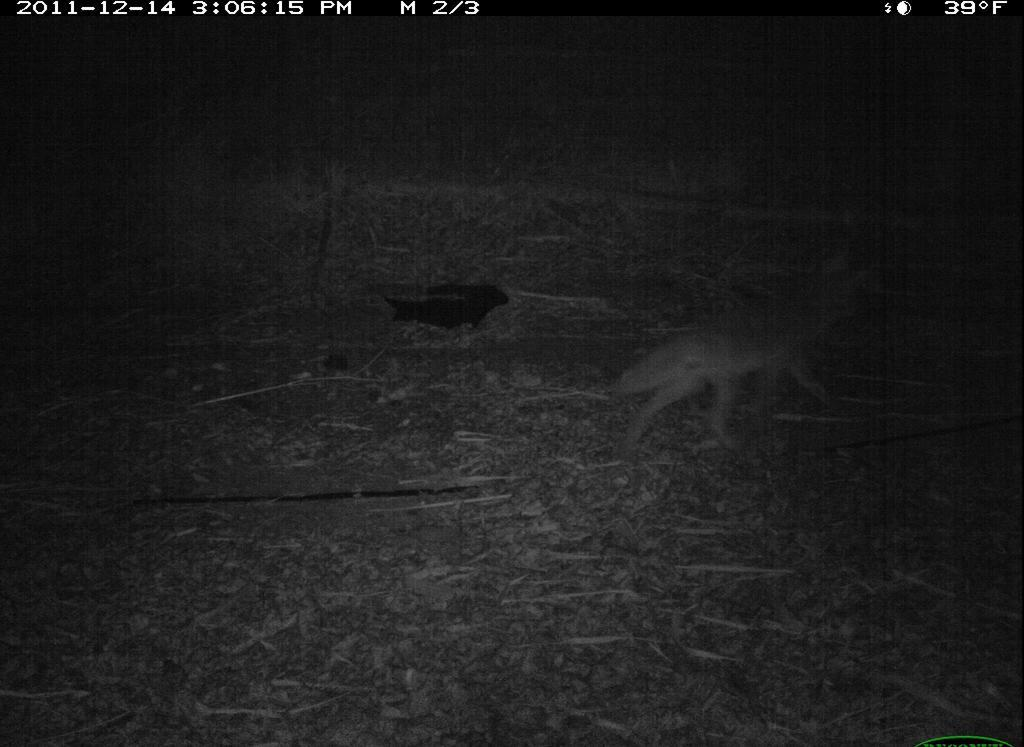coyote: (605, 244, 885, 452)
